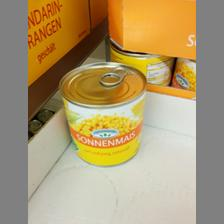Mais: (57, 61, 145, 165)
